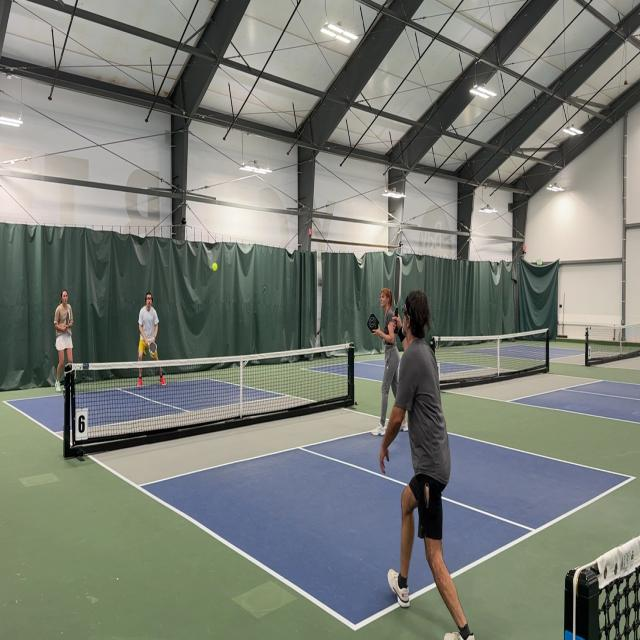ball: (211, 262, 219, 272)
